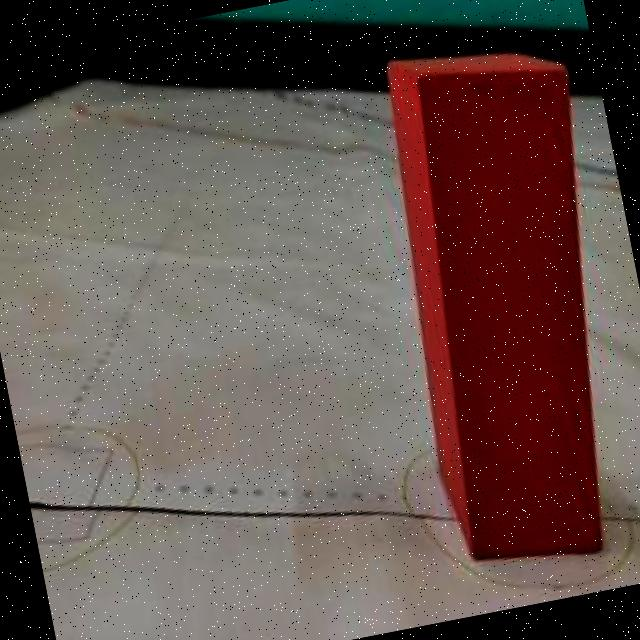redbox: (370, 34, 634, 584)
